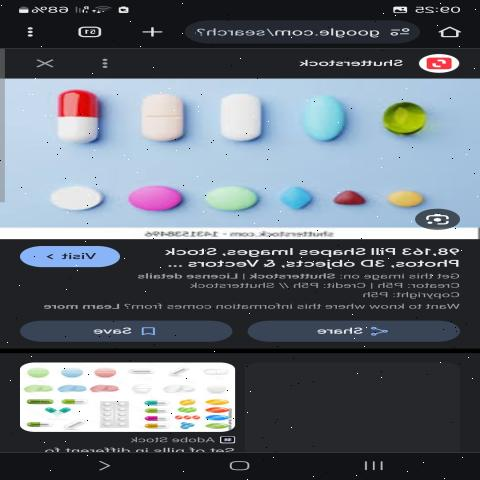Pill: (20, 86, 108, 157), (290, 89, 362, 151), (206, 94, 283, 148), (126, 87, 193, 149), (32, 174, 104, 220), (202, 177, 264, 219), (377, 184, 429, 212)
